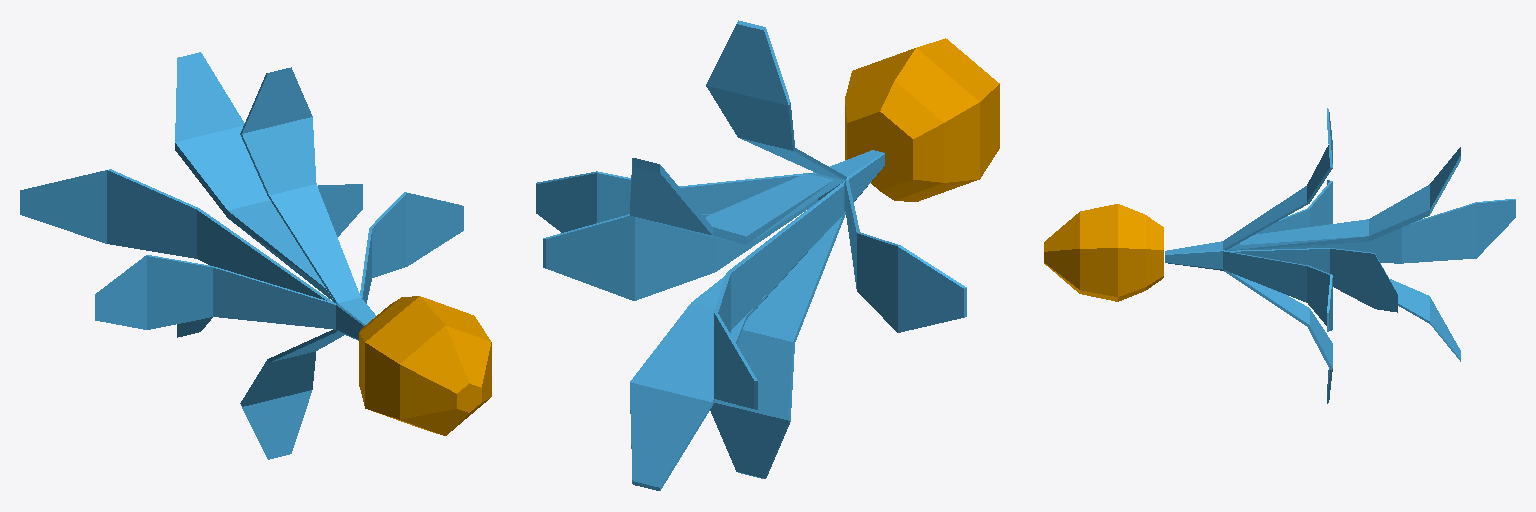
The robot description file, URDF, robot "radish":
<?xml version="1.0"?>
<robot name="radish">
  <link name="body">
    <inertial>
        <origin rpy="0 0 0" xyz="0 0 0"/>
        <mass value="0.01"/>
        <inertia ixx="4.4e-5" ixy="0" ixz="0" iyy="0" iyz="0" izz="4.4e-5"/>
    </inertial>
    <visual>
      <geometry>
        <mesh filename="radish.obj"/>
      </geometry>
    </visual>
    <collision>
      <geometry>
        <mesh filename="radish.obj"/>
      </geometry>
      <surface>
           <bounce restitution_coefficient = "0.1"/>
      </surface>
    </collision>
  </link>
  <link name="green">
    <inertial>
        <origin rpy="0 0 0" xyz="0 0 0"/>
        <mass value="0.001"/>
        <inertia ixx="1.9e-5" ixy="0" ixz="0" iyy="6.8e-6" iyz="0" izz="1.2e-5"/>
    </inertial>
    <visual>
      <geometry>
        <mesh filename="radishGreen.obj"/>
      </geometry>
    </visual>
    <collision>
      <geometry>
        <mesh filename="radishGreen.obj"/>
      </geometry>
      <surface>
           <bounce restitution_coefficient = "0.1"/>
      </surface>
    </collision>
  </link>
  <joint name="body_to_green" type="fixed">
    <parent link="body"/>
    <child link="green"/>
    <origin rpy="0 0 0" xyz="0 0 0"/>
  </joint>
</robot>

--- Render facts (derived) ---
3 views of the same robot in one strip: view 1: azimuth 30°, elevation 25°; view 2: azimuth 150°, elevation 25°; view 3: azimuth 270°, elevation 25° (orthographic).
Model radish with 2 links and 1 joints (1 fixed), rooted at body, posed every joint at zero.
Links seen in each view (by area): view 1: green, body; view 2: green, body; view 3: green, body.
Boxes of the visible links, x1,y1,x2,y2 form: green: [20, 52, 463, 459]; body: [359, 296, 491, 435]; green: [536, 20, 966, 490]; body: [845, 38, 999, 201]; green: [1165, 108, 1515, 403]; body: [1044, 204, 1163, 301].
Size in the robot's own frame: 0.3457 by 0.5141 by 0.3466 metres.
2 mesh visuals loaded from 2 distinct referenced files (2 OBJ).
